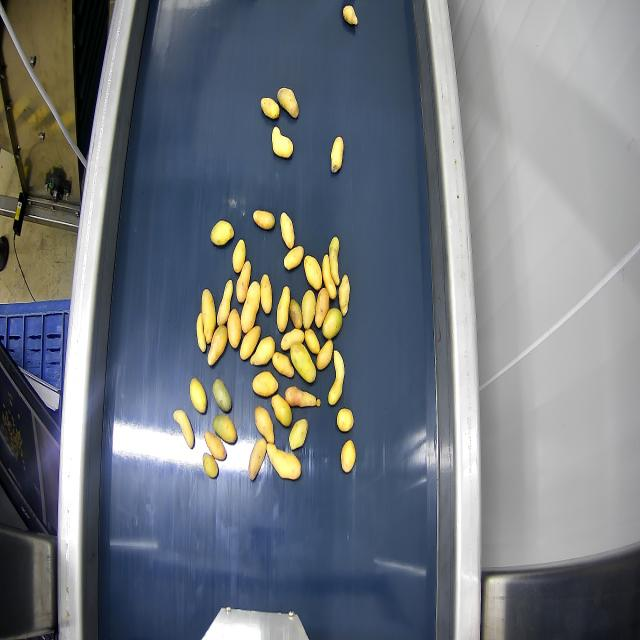Baby Potato: (212, 378, 232, 453), (267, 444, 300, 479), (241, 281, 261, 333), (291, 344, 316, 383), (328, 350, 344, 406), (173, 410, 194, 447), (202, 289, 216, 344), (208, 326, 227, 366), (250, 336, 275, 366), (285, 386, 320, 407), (217, 280, 233, 325), (255, 406, 274, 443), (249, 439, 266, 480), (271, 394, 292, 427), (240, 326, 260, 359), (272, 127, 293, 158), (252, 371, 277, 397), (304, 255, 322, 291), (189, 378, 207, 414), (213, 416, 236, 444), (277, 88, 298, 118), (322, 255, 336, 300), (204, 432, 226, 460), (315, 287, 330, 328), (322, 308, 342, 338), (277, 286, 290, 332), (236, 261, 250, 303), (330, 136, 346, 172), (289, 419, 307, 450), (211, 221, 233, 246), (272, 352, 294, 377), (227, 309, 241, 348), (280, 212, 294, 249), (302, 290, 315, 329), (281, 328, 303, 351), (329, 237, 339, 286), (316, 340, 332, 370), (260, 274, 272, 313), (284, 246, 303, 270), (341, 440, 355, 472), (232, 240, 245, 273), (253, 210, 274, 230), (339, 275, 349, 316), (261, 97, 279, 119), (289, 298, 302, 328), (337, 408, 353, 432), (203, 454, 218, 479), (305, 328, 319, 354), (197, 312, 206, 352), (343, 5, 357, 25)
